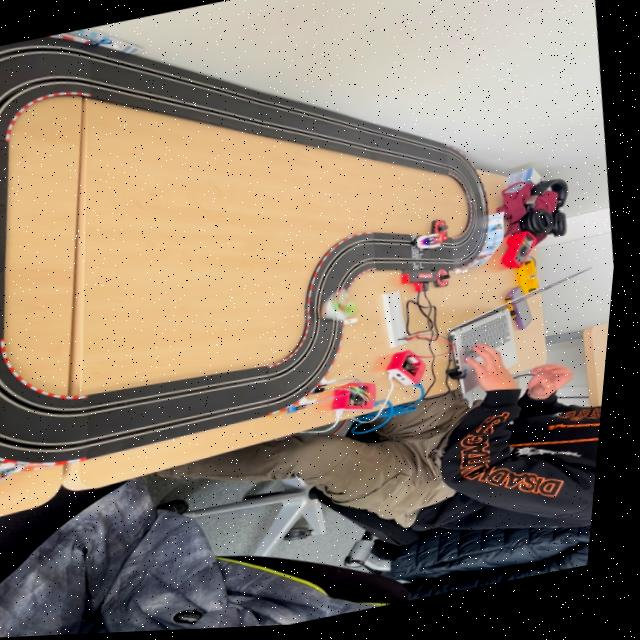mario: (419, 233, 457, 258)
yoshi: (320, 286, 375, 331)
